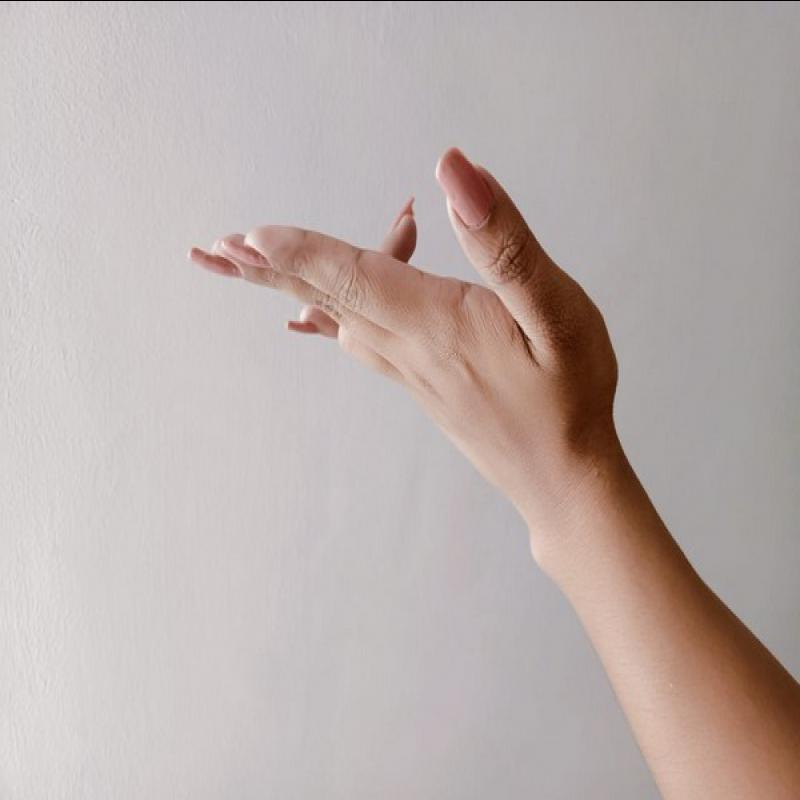Pathaaka: (159, 142, 639, 518)
